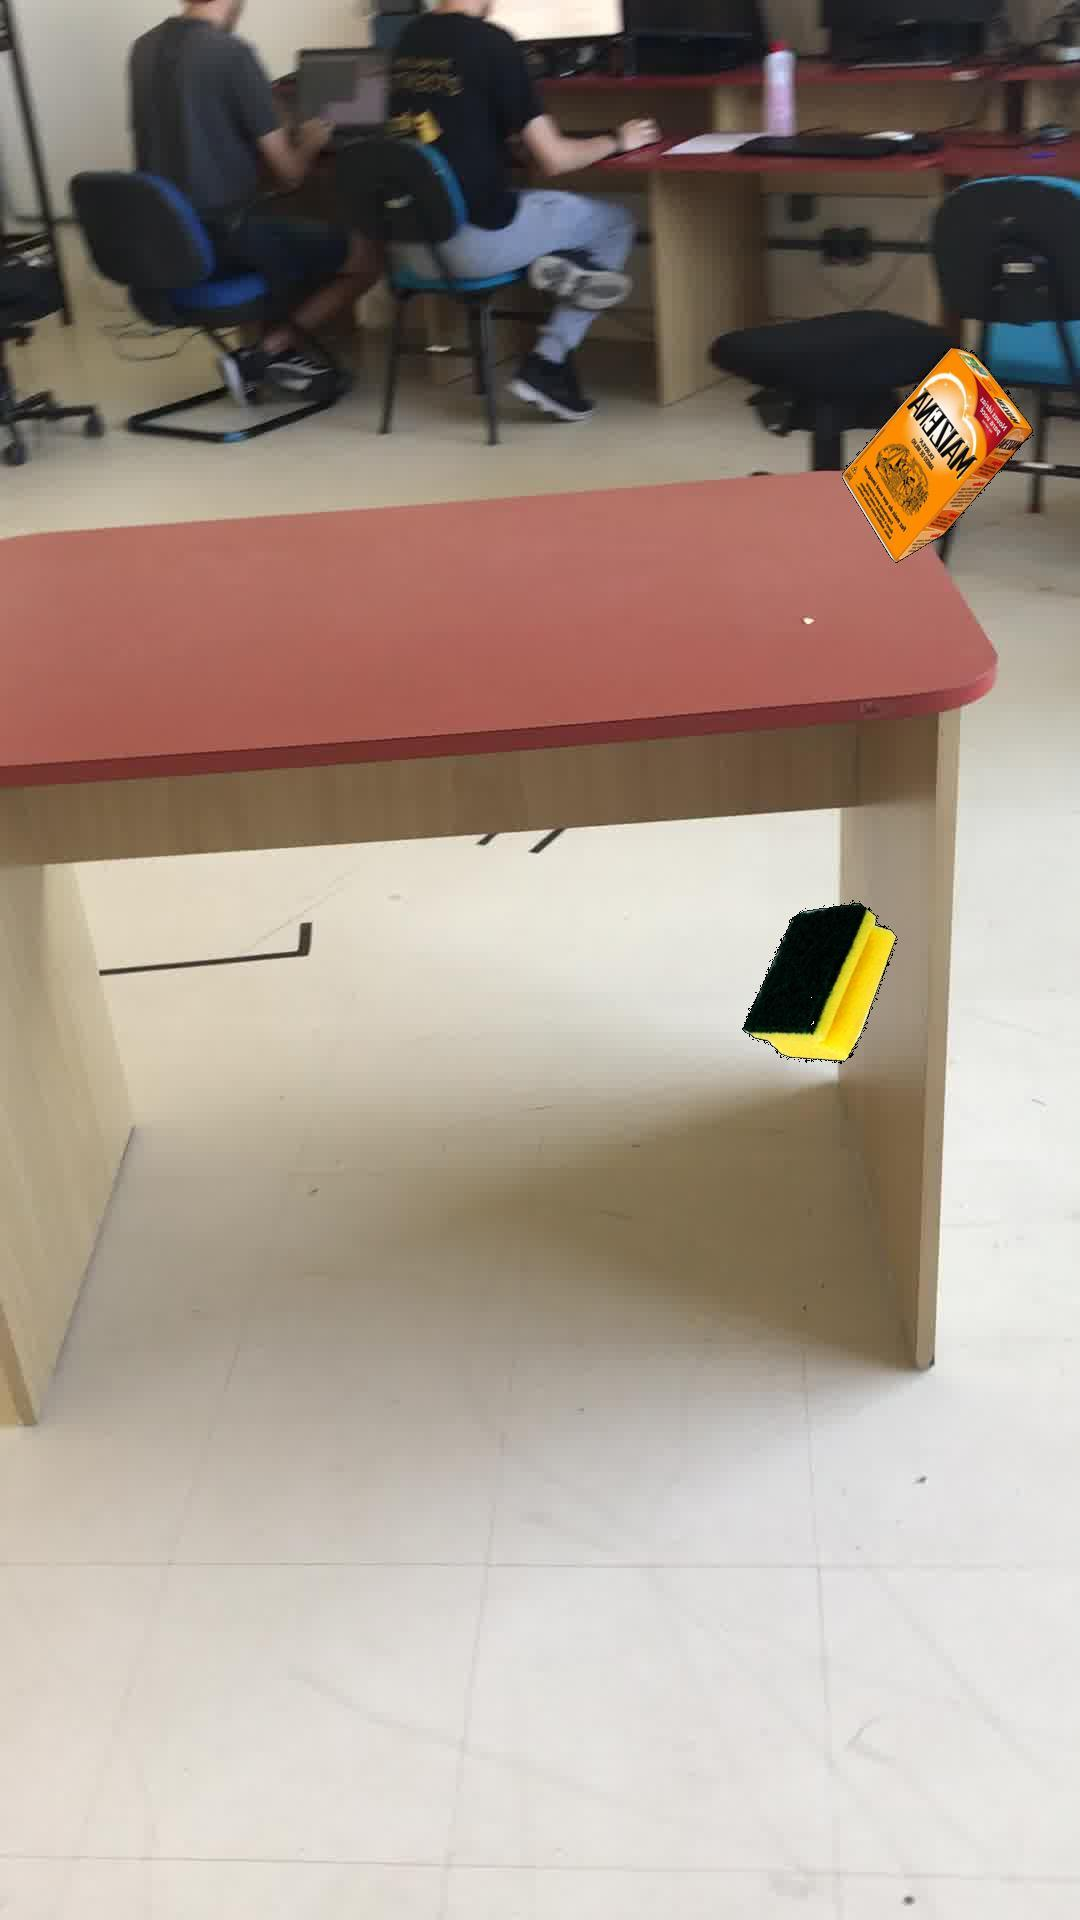sponge: (741, 901, 895, 1063)
